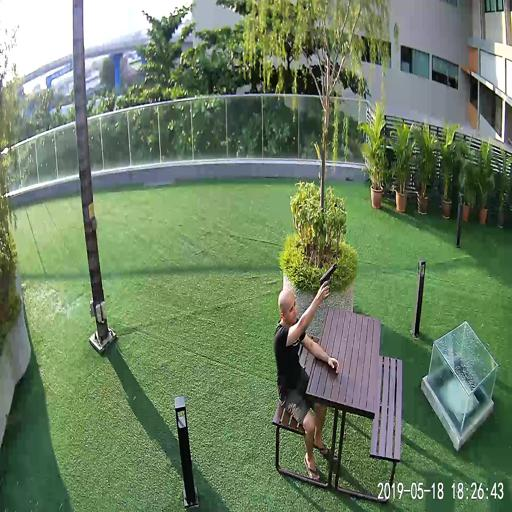pistol: (320, 264, 337, 298)
